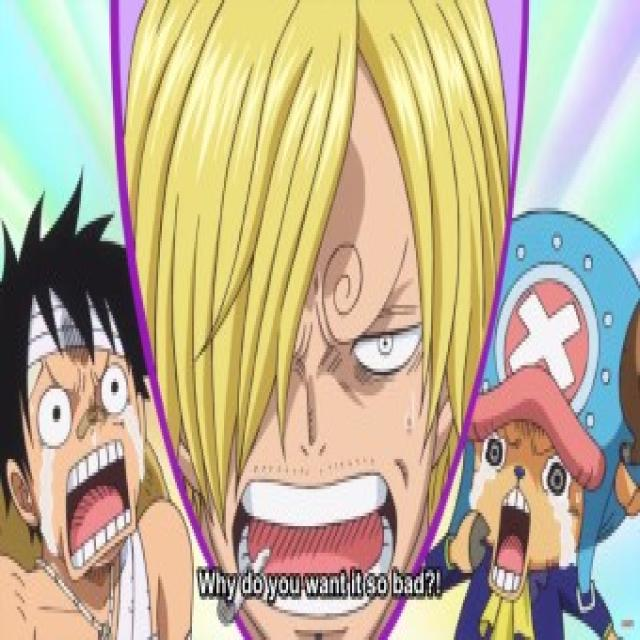Chyopa: (429, 200, 640, 640)
Luffy: (0, 217, 142, 576)
Sangdi: (143, 7, 498, 640)
